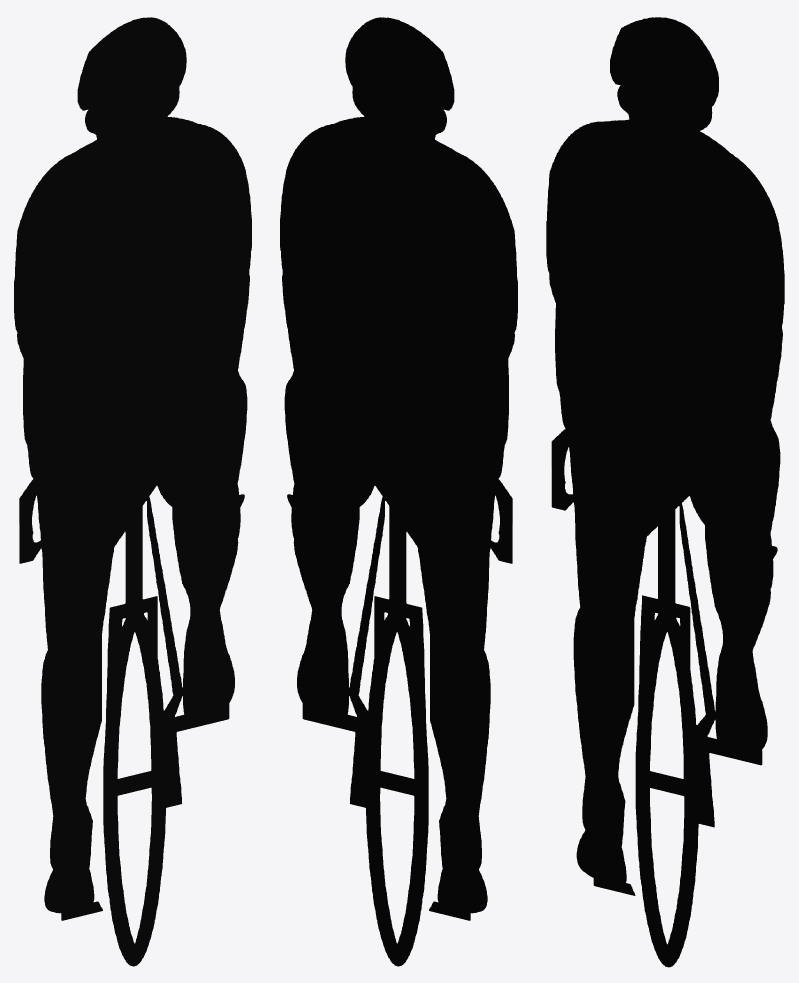
The model's file is cyclist.dae.
The picture shows the model from 3 angles, left to right: view 1: azimuth 30°, elevation 25°; view 2: azimuth 150°, elevation 25°; view 3: azimuth 330°, elevation 25°; orthographic projection.
Parts seen in each view (by area): view 1: SketchUp; view 2: SketchUp; view 3: SketchUp.
Boxes of the visible parts, <box> form: SketchUp: <box>14,17,251,966</box>; SketchUp: <box>280,17,517,966</box>; SketchUp: <box>546,17,784,967</box>.
Bounding box in the file's own units: 20.82 × 0 × 79.14.
Materials: 1 (1 with a texture image).
